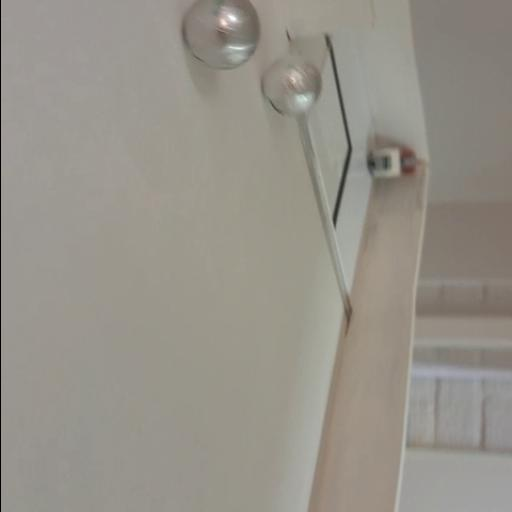alive: (182, 0, 261, 70), (260, 54, 320, 115)
